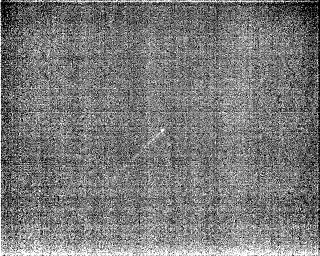AIRPLANE: (101, 129, 167, 176)
